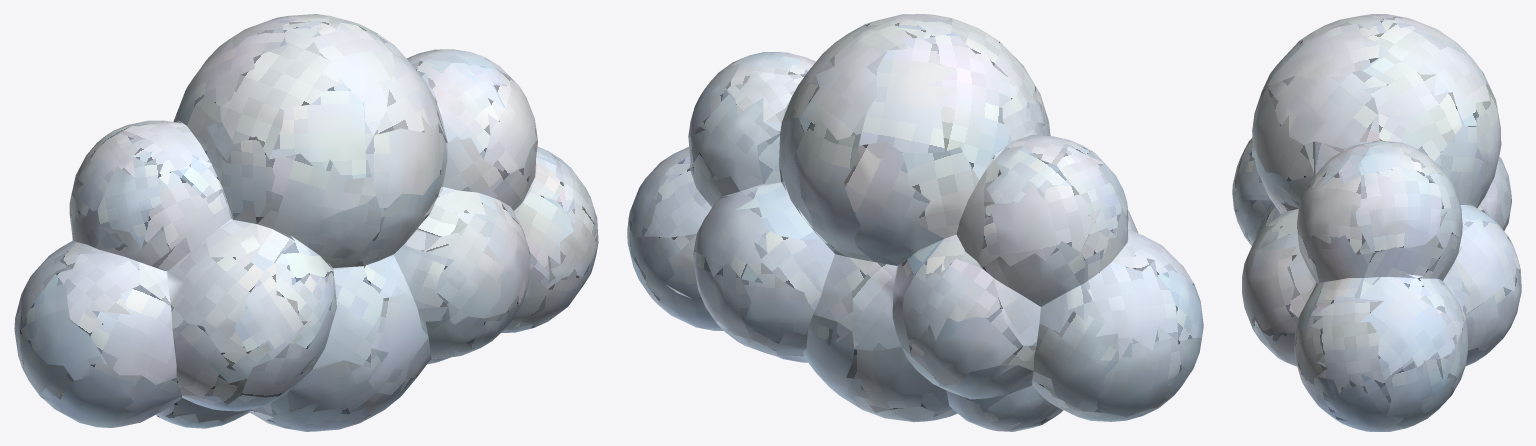
File: cloud-a.glb
The picture shows the model from 3 angles, left to right: view 1: azimuth 30°, elevation 25°; view 2: azimuth 150°, elevation 25°; view 3: azimuth 270°, elevation 25°; orthographic projection. The views are drawn at different scales.
Visible parts, largest first — view 1: output_unwrapped; view 2: output_unwrapped; view 3: output_unwrapped.
Boxes of the visible parts, <box> form: output_unwrapped: <box>14,14,598,431</box>; output_unwrapped: <box>627,14,1203,431</box>; output_unwrapped: <box>1232,14,1521,431</box>.
Bounding box in the file's own units: 1.9 × 1.27 × 0.9455.
Materials: 1 (1 with a texture image).
